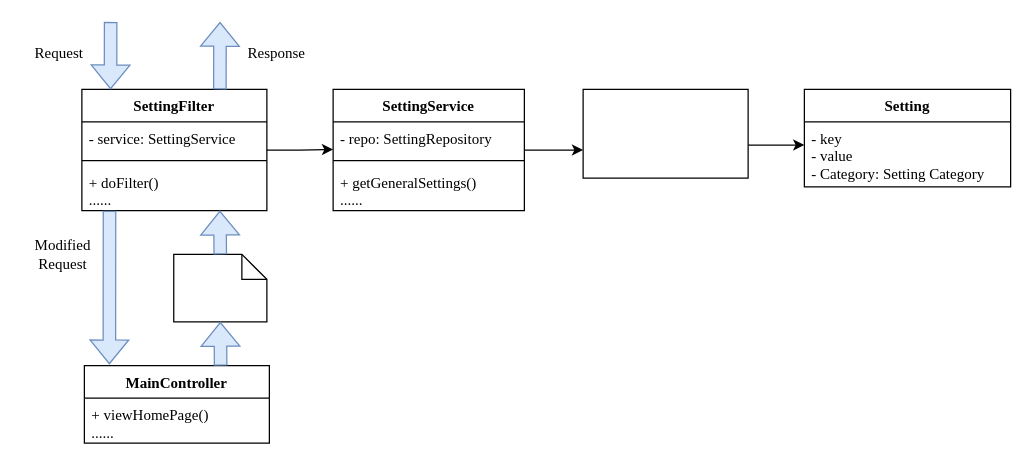
This 1033x469 diagram has some shape labels left out. Here are the shapes that lost their labels. From the top down, the centre of each, then its label:
At [665,133]: "<<Interface>> SettingRepository + findByCategory()".
At [219,287]: "index.html".
